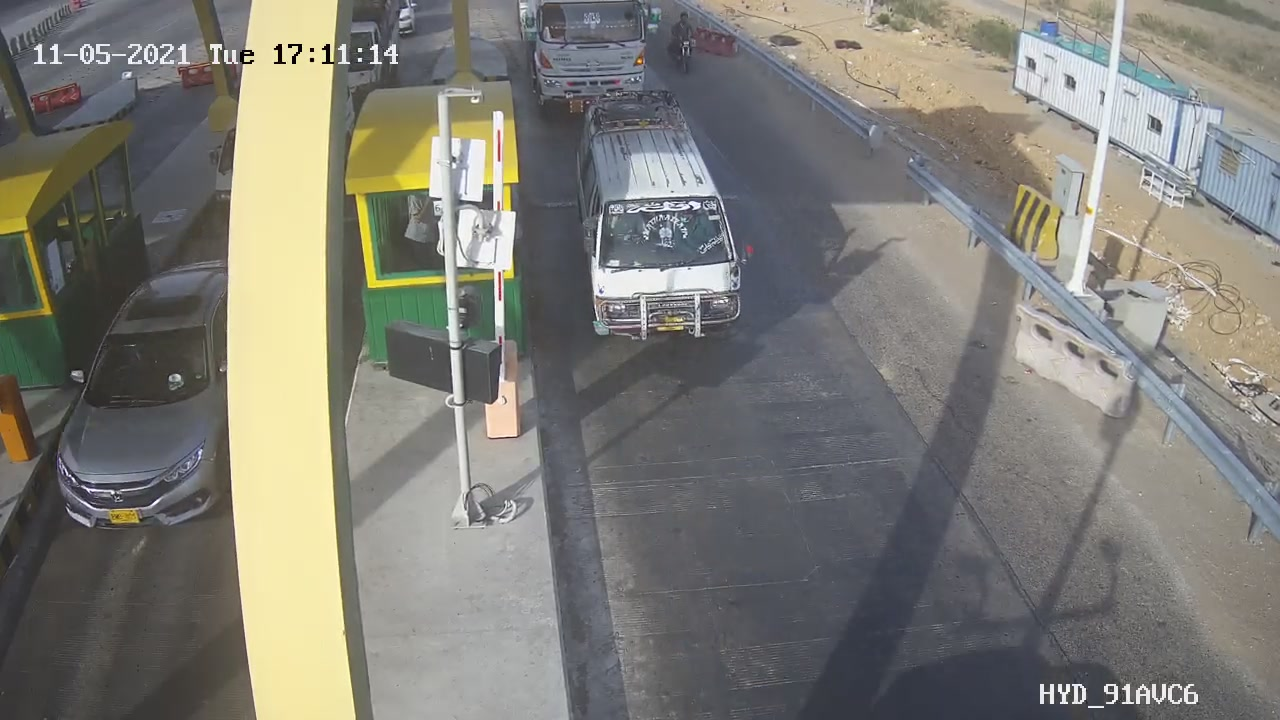F2: (553, 73, 773, 364)
